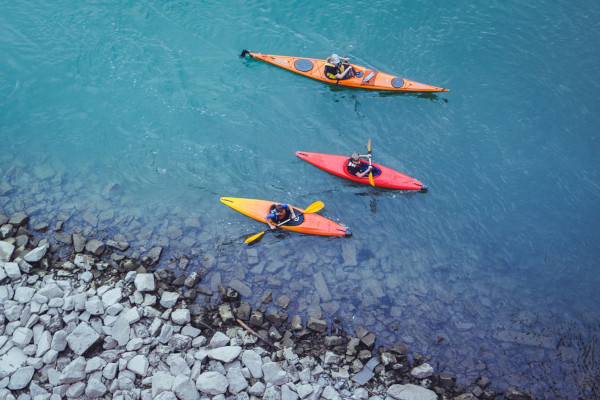kayaker: (239, 45, 455, 99), (293, 138, 431, 196), (218, 192, 356, 249)
